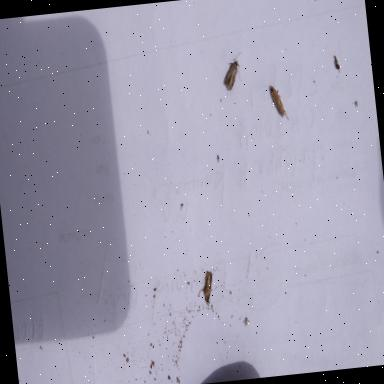pbw: (222, 52, 246, 91), (269, 84, 289, 122), (202, 270, 216, 302)
